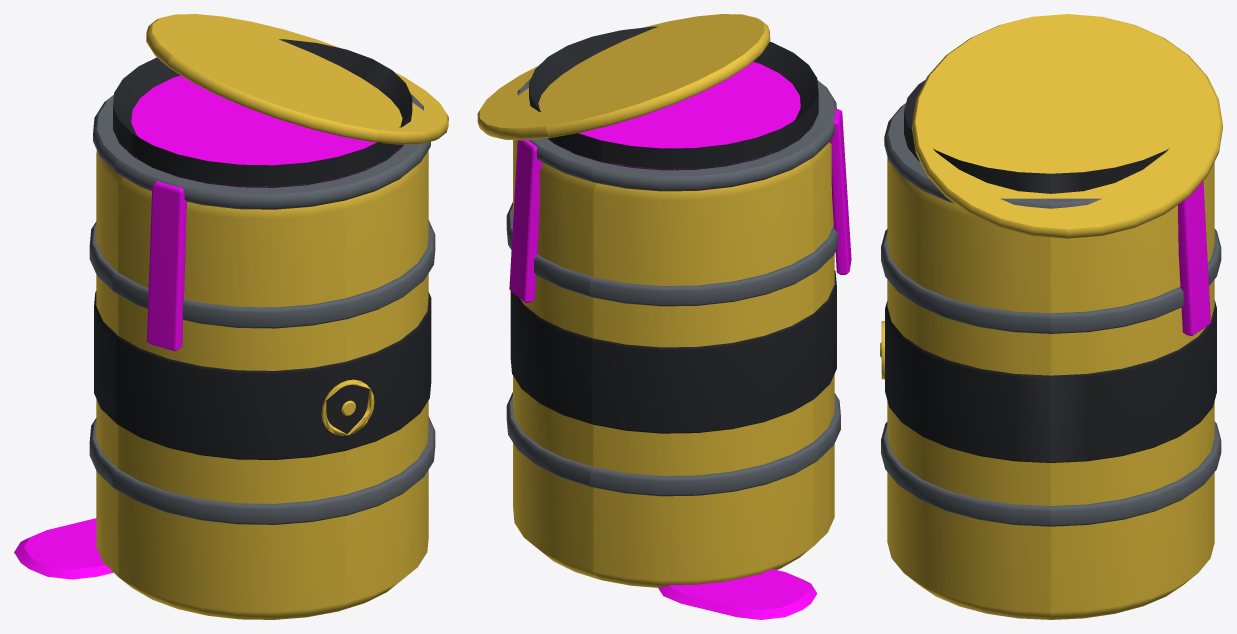
The model's file is objet_dechets_nucleaires.glb.
3 views of the same model, side by side, from view 1: azimuth 30°, elevation 25°; view 2: azimuth 150°, elevation 25°; view 3: azimuth 270°, elevation 25° (orthographic). The views are drawn at different scales.
Parts seen in each view (by area): view 1: dechets_nucleaire_jaune.002, dechets_symbole_noir.002, dechets_acier_doux_sombre.002, dechets_teinte.002; view 2: dechets_nucleaire_jaune.002, dechets_symbole_noir.002, dechets_acier_doux_sombre.002, dechets_teinte.002; view 3: dechets_nucleaire_jaune.002, dechets_symbole_noir.002, dechets_acier_doux_sombre.002, dechets_teinte.002.
Part boxes in pixels (bbox=[...]): dechets_nucleaire_jaune.002: bbox=[96, 14, 448, 619]; dechets_symbole_noir.002: bbox=[94, 39, 431, 459]; dechets_acier_doux_sombre.002: bbox=[89, 93, 435, 524]; dechets_teinte.002: bbox=[14, 75, 402, 579]; dechets_nucleaire_jaune.002: bbox=[477, 14, 834, 587]; dechets_symbole_noir.002: bbox=[510, 26, 836, 433]; dechets_acier_doux_sombre.002: bbox=[506, 79, 840, 496]; dechets_teinte.002: bbox=[509, 61, 851, 619]; dechets_nucleaire_jaune.002: bbox=[880, 14, 1222, 619]; dechets_symbole_noir.002: bbox=[885, 80, 1216, 462]; dechets_acier_doux_sombre.002: bbox=[881, 103, 1221, 526]; dechets_teinte.002: bbox=[904, 136, 1210, 335].
Bounding box in the file's own units: 0.2499 × 0.3406 × 0.2095.
